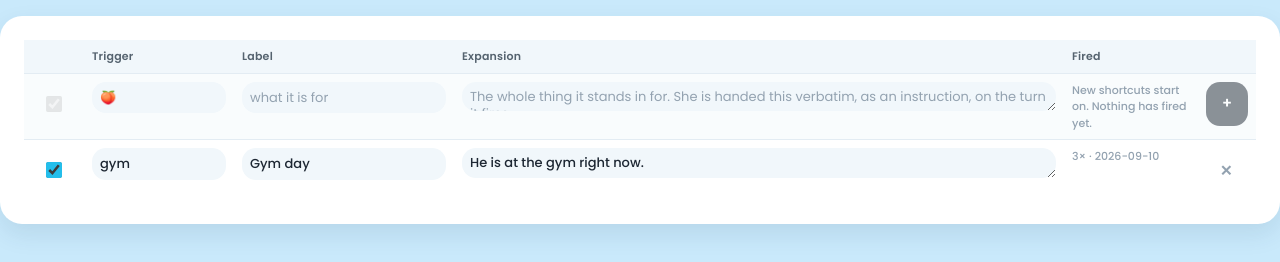
ShortcutTable — existing rows › shows a successful cell save’s note under the expansion cell
The image size is (1280, 262).
Type "!" into the field named "Label" at (344, 164), box [242, 148, 446, 180]
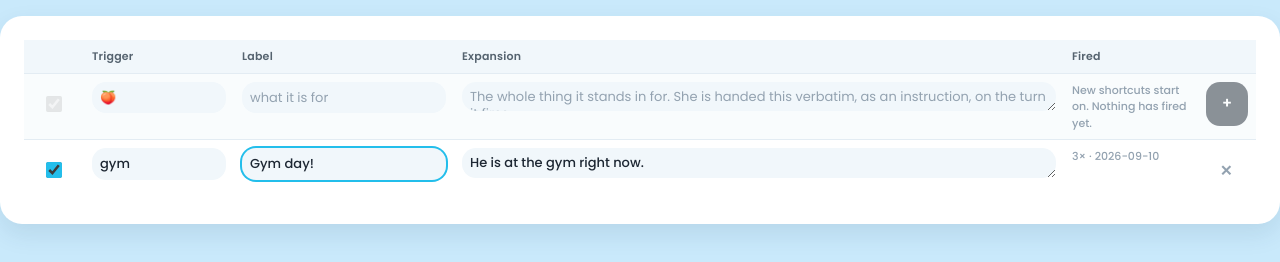
Leave the field named "Label", box [242, 148, 446, 180]
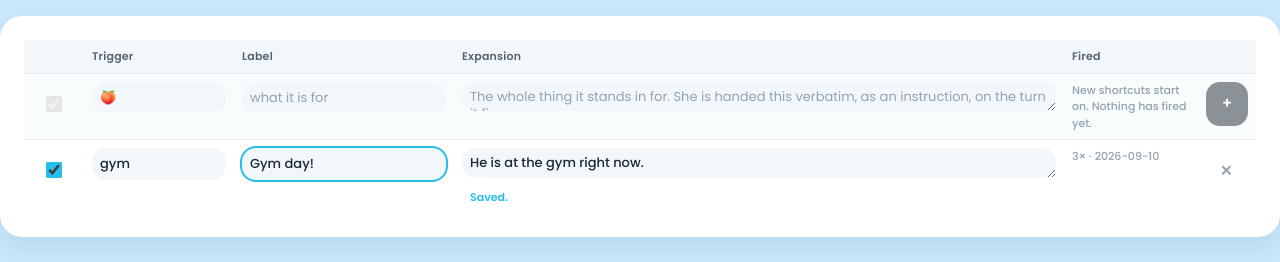
Now the text "Saved." is shown, box [470, 189, 508, 205]
